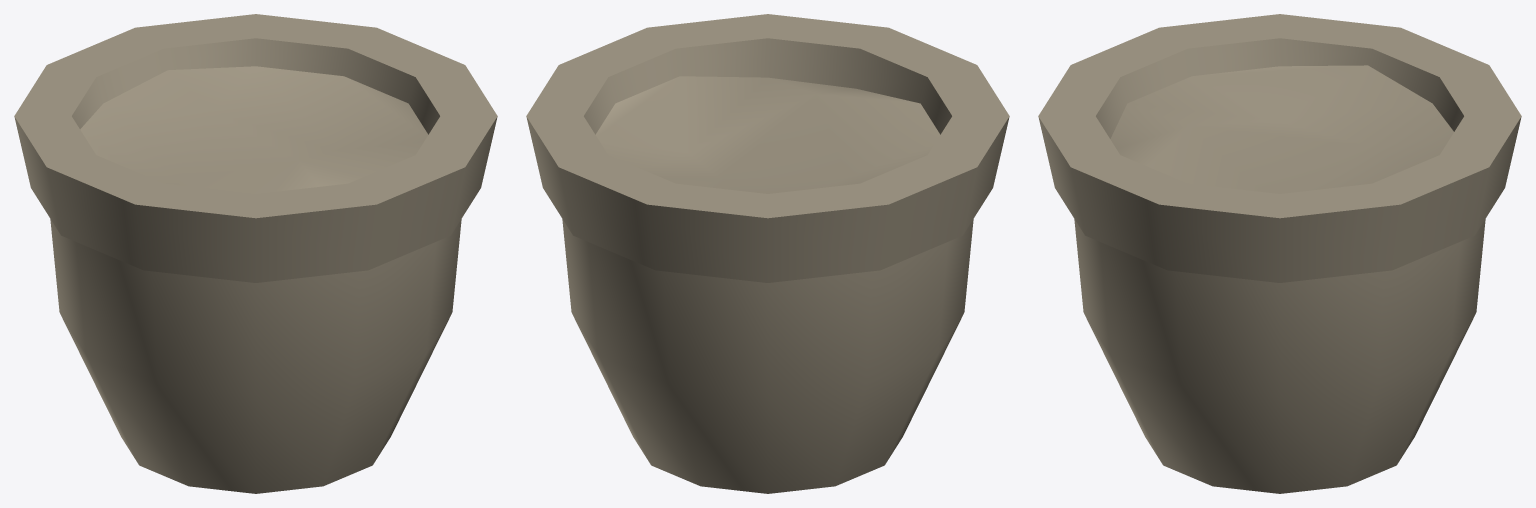
File: SM_FlowerPot_02.fbx
The picture shows the model from 3 angles, left to right: view 1: azimuth 30°, elevation 25°; view 2: azimuth 150°, elevation 25°; view 3: azimuth 270°, elevation 25°; orthographic projection.
Parts seen in each view (by area): view 1: SM_FlowerPot_02; view 2: SM_FlowerPot_02; view 3: SM_FlowerPot_02.
Boxes of the visible parts, <box> form: SM_FlowerPot_02: <box>14,14,497,493</box>; SM_FlowerPot_02: <box>526,14,1009,493</box>; SM_FlowerPot_02: <box>1038,14,1521,493</box>.
Size of what is drawn, in the model's own units: 19.32 by 14.15 by 19.32.
